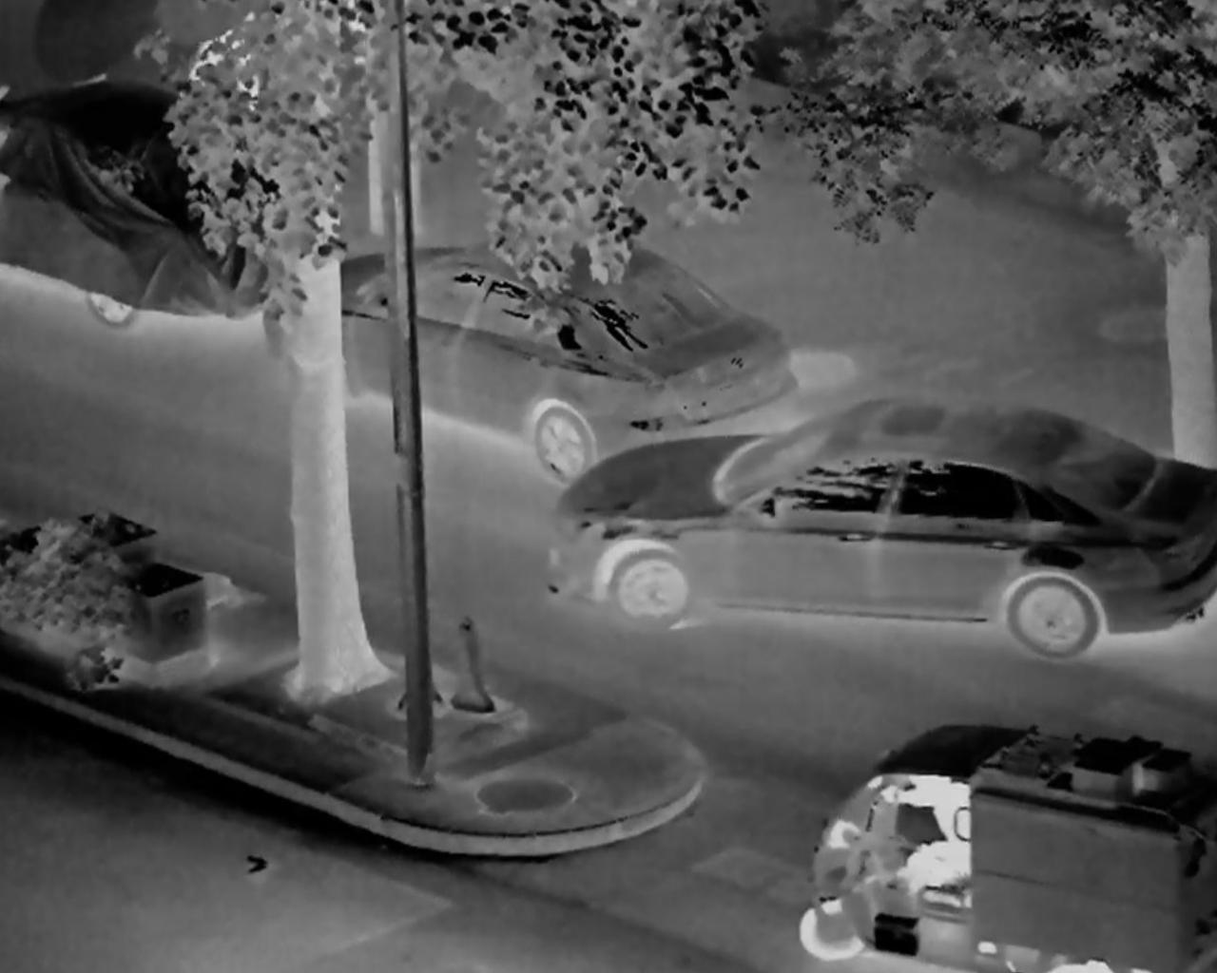person: (906, 773, 979, 932)
